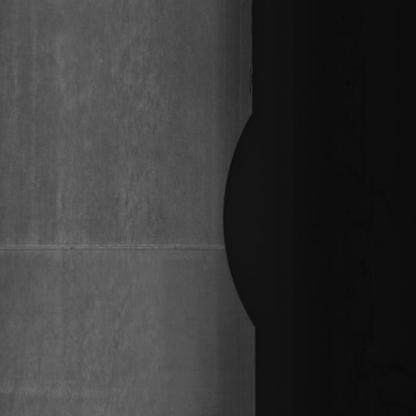crescent_gap: (217, 95, 276, 337)
welding_line: (4, 230, 233, 260)
